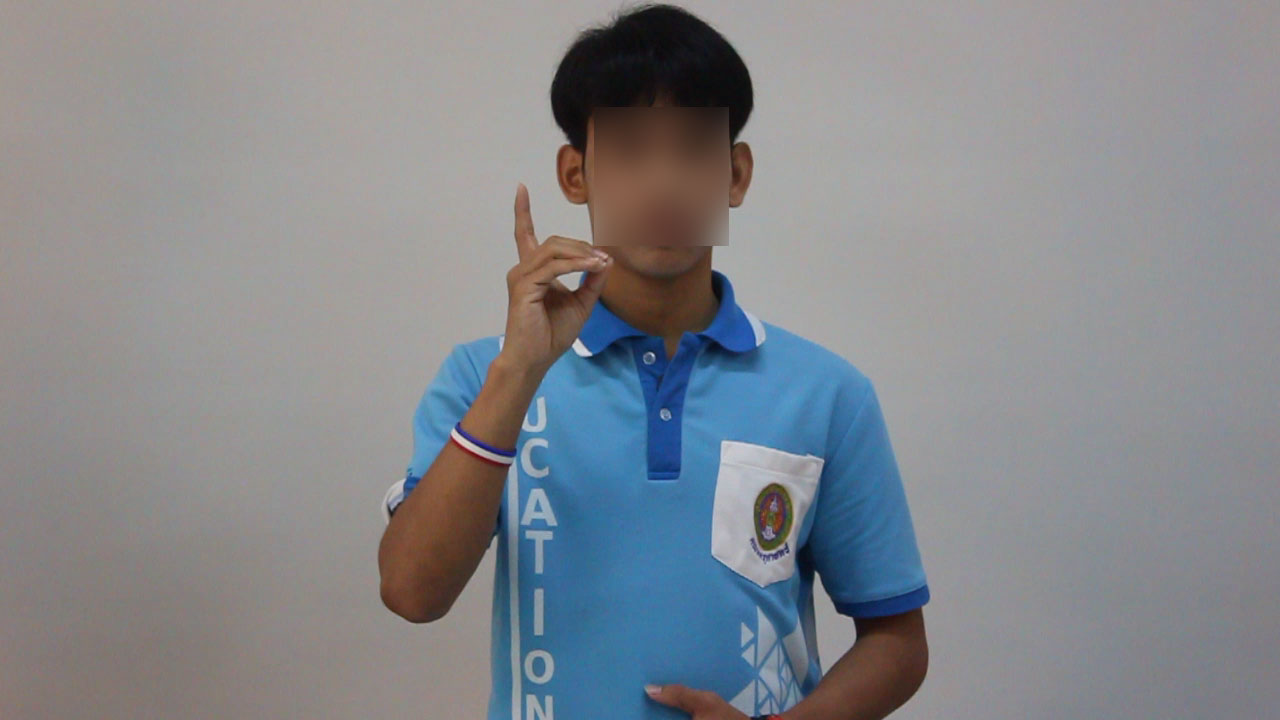dor: (485, 176, 619, 366)
